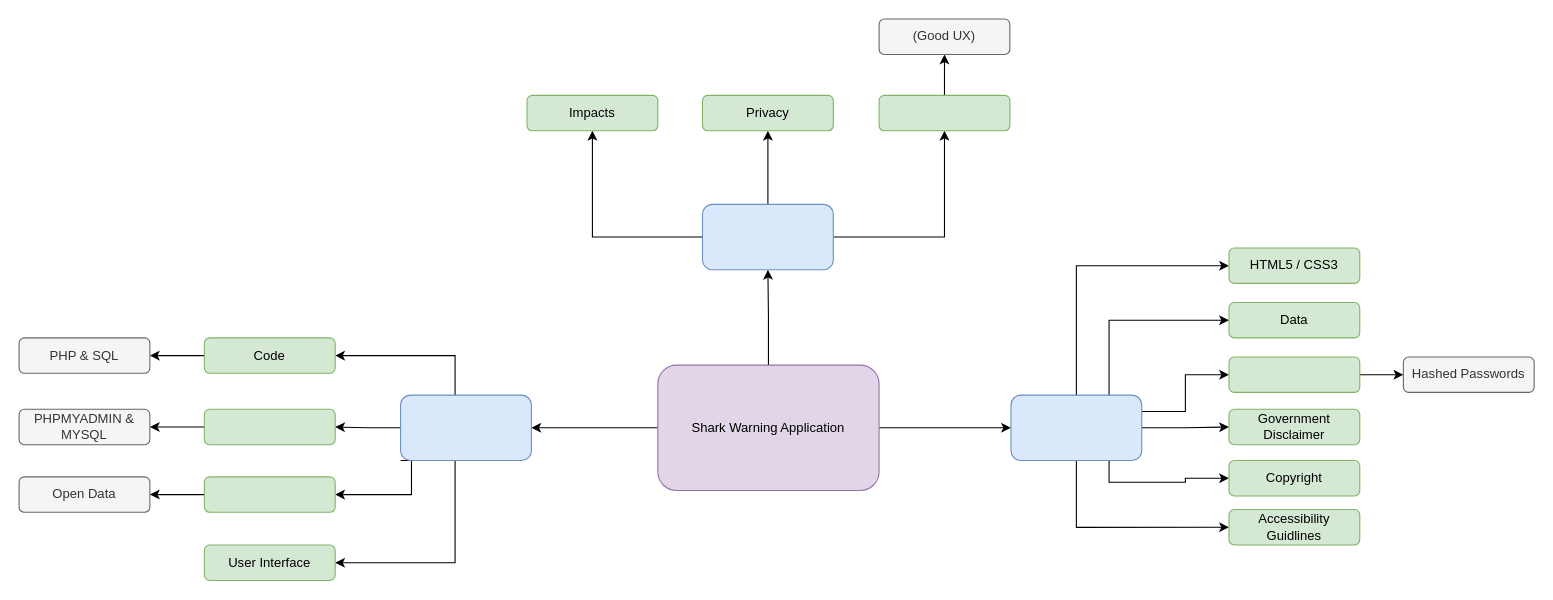
Some shapes in this 1553 by 600 pixel diagram are drawn without their labels. The centre of each missing label's shape, as x and y in pixels:
Constraints: [1076,427]
Database: [269,426]
Dataset: [269,494]
Functional Requirements: [465,427]
Non-Functional Requirements: [767,236]
Privacy Act 1988: [1294,374]
Usability Principles: [944,112]
